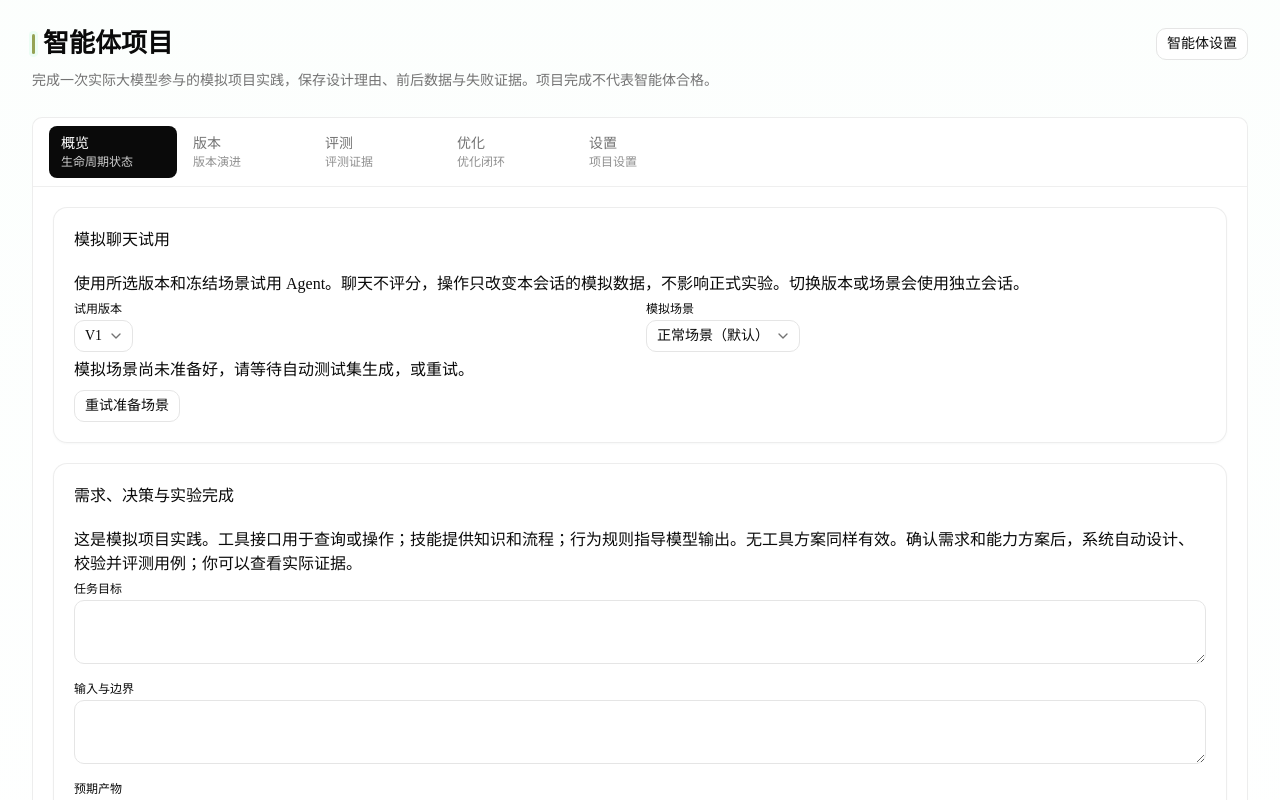
Scenario: creates a version and refreshes the history
The image size is (1280, 800).
Click the button "版本 版本演进" at (245, 152), box [181,126,309,178]
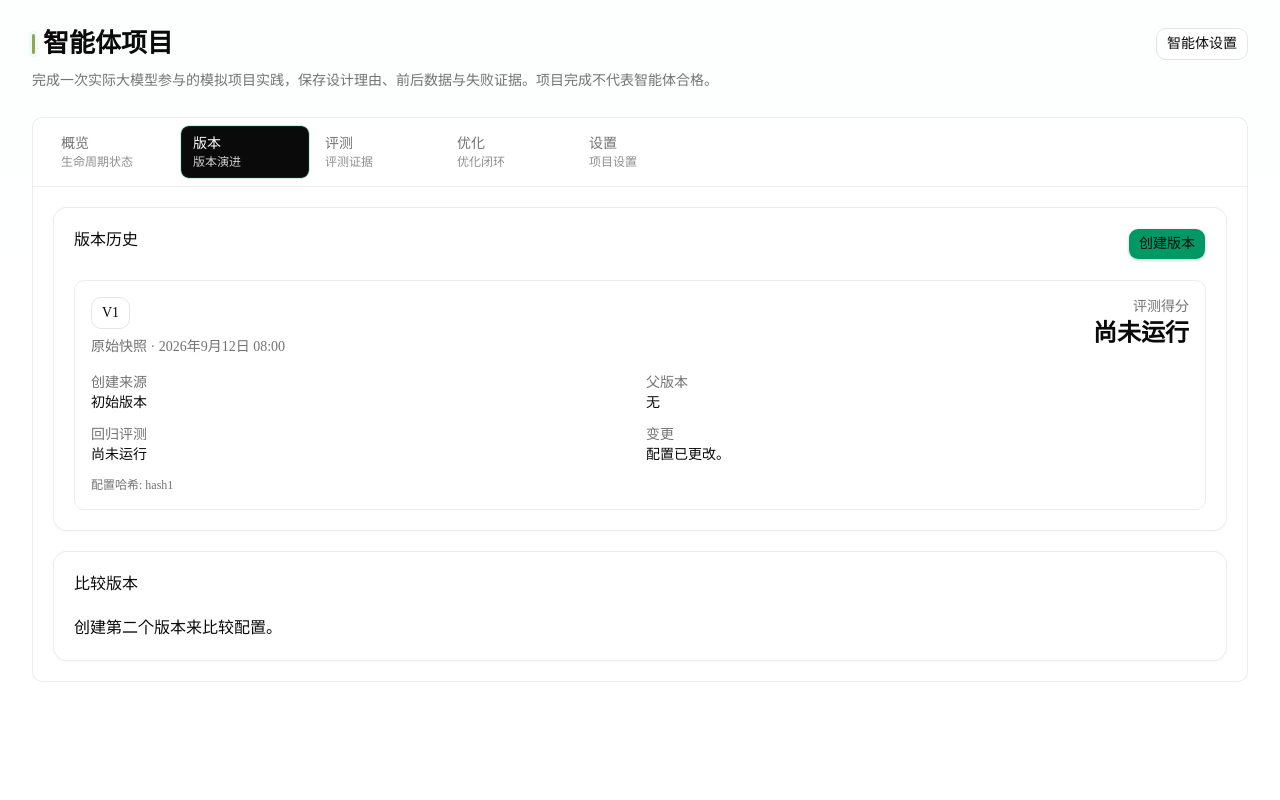
Click the button "创建版本" at (1167, 244), box [1128,228,1206,260]
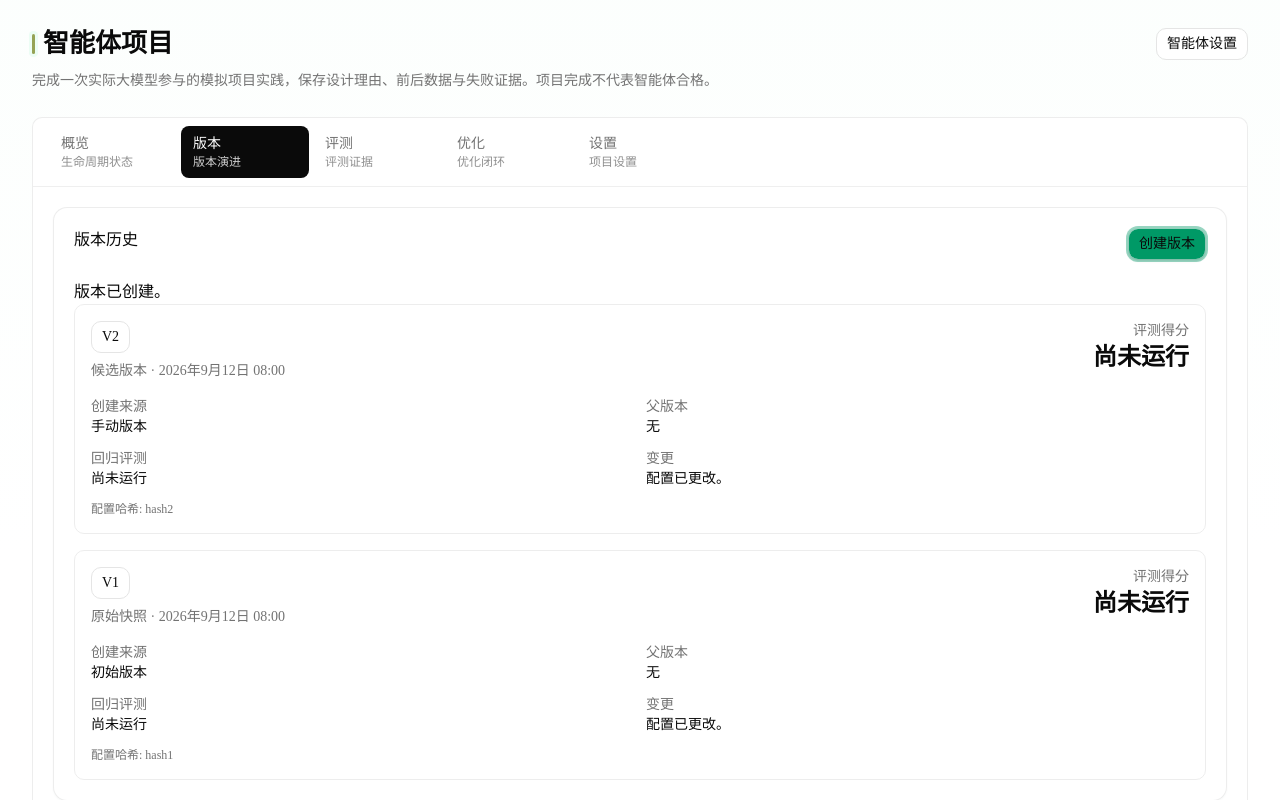
Expected: the text "版本已创建。" is shown, [74,282,170,300]
Expected: the button "V2" is shown, [91,320,130,352]
